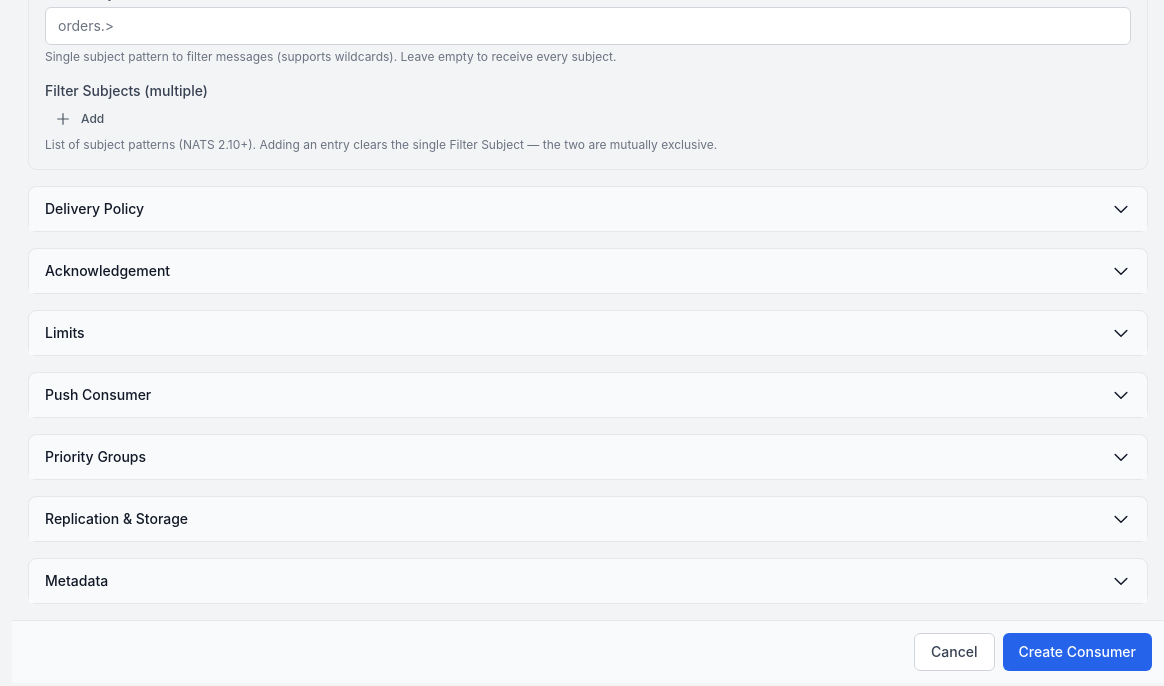
it: ConsumerEditor priority groups › locks the section on servers without priority groups
This screenshot has width=1164, height=686.
(page scrolled)
Click the button "Priority Groups". click: [96, 456]
box: top-left (29, 435), bottom-right (1147, 479)
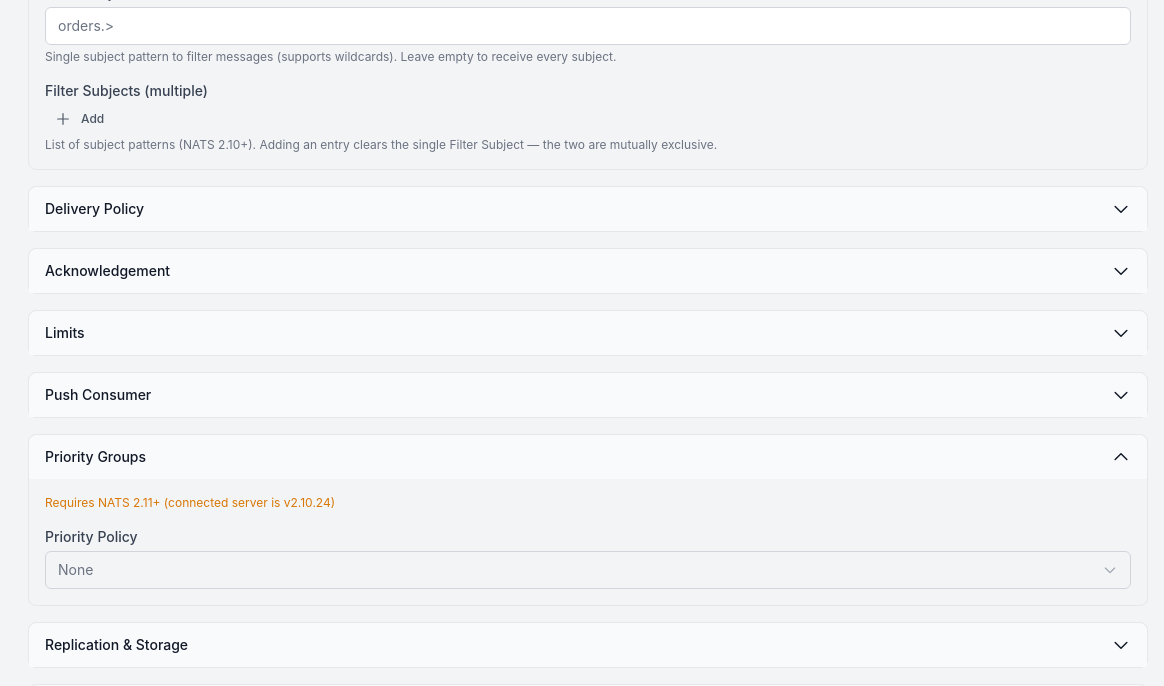
Expected: the text "Requires NATS 2.11+ (connected server is v2.10.24)" is shown, top-left (45, 495), bottom-right (335, 510)
Expected: the button named "Priority Policy" is disabled, top-left (45, 551), bottom-right (1131, 589)
